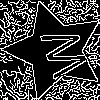W: (30, 25, 91, 83)
